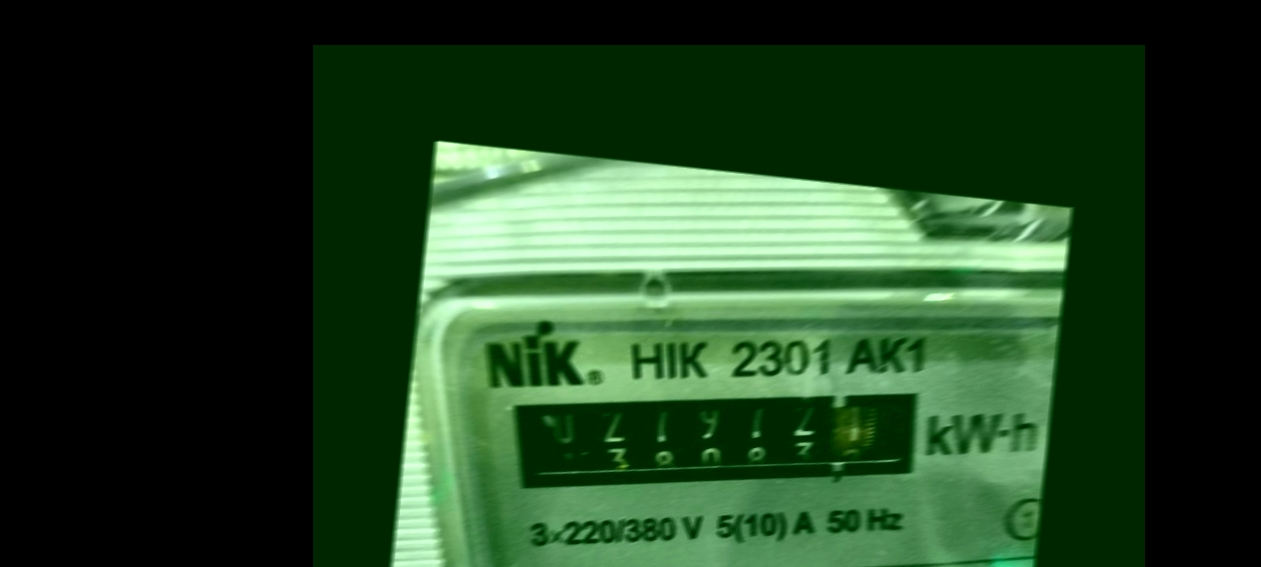0: (548, 408, 580, 446)
1: (843, 401, 869, 447)
2: (598, 404, 631, 446), (789, 400, 821, 440)
7: (742, 400, 772, 443), (648, 406, 675, 445)
9: (696, 404, 725, 441)
screen: (489, 341, 954, 542)
